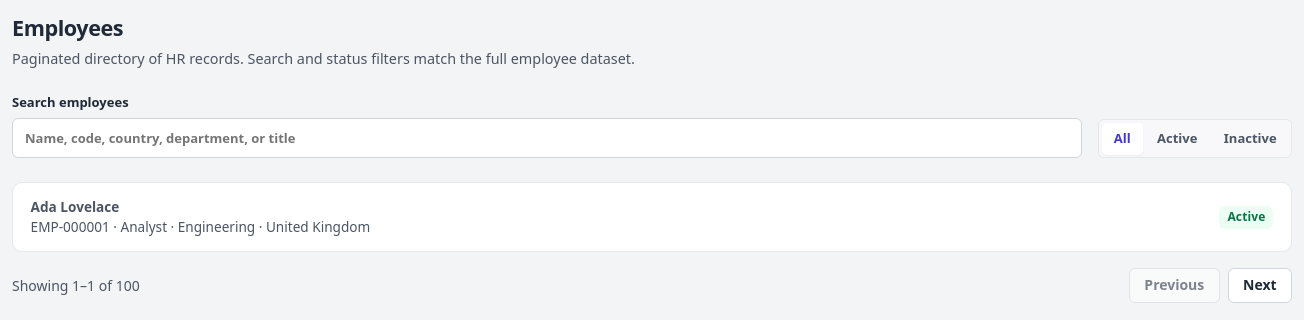
search resets pagination to the first page
Expected: the text "Ada Lovelace" is shown, [31,197,119,216]
Click the button "Next": (1260, 286) [1228,268,1292,303]
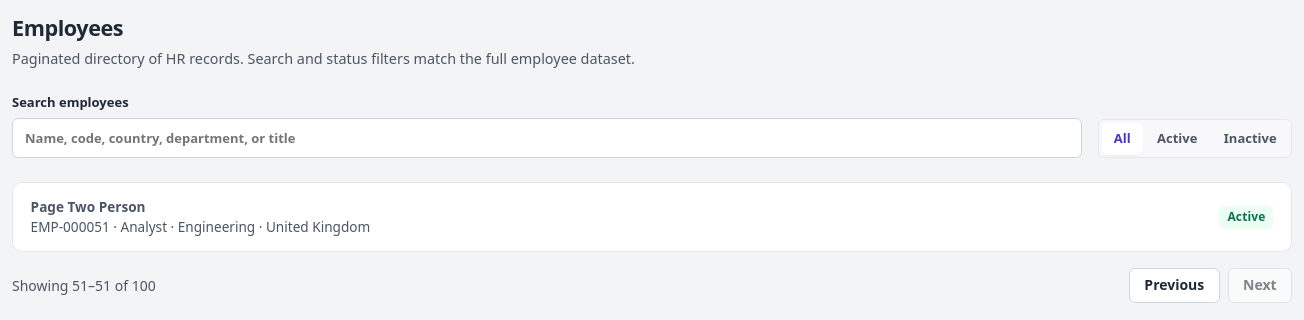
Now the text "Page Two Person" is shown, box [31,197,146,216]
In the search field labelled "Search employees": (547, 138) [12,118,1082,158], type "Hopper"
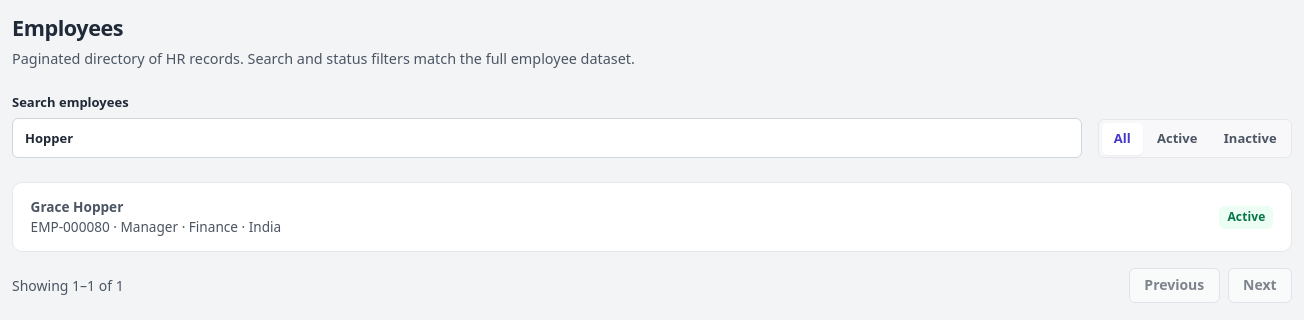
Now the text "Grace Hopper" is shown, box [31,197,123,216]
